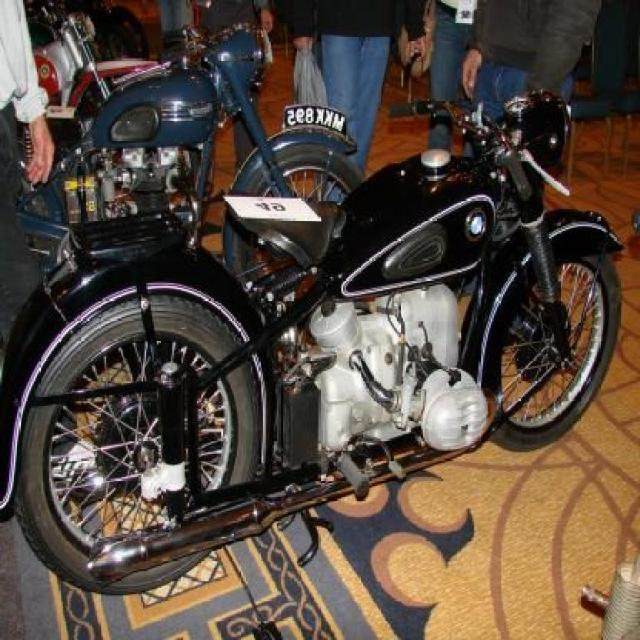Cycle: (2, 27, 636, 582)
